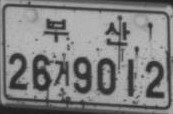0: (95, 56, 117, 95)
1: (121, 58, 140, 97)
2: (144, 59, 165, 99), (8, 51, 28, 90)
6: (31, 53, 52, 91)
9: (72, 55, 92, 94)
거: (53, 59, 69, 87)
부산_D: (43, 16, 130, 46)
